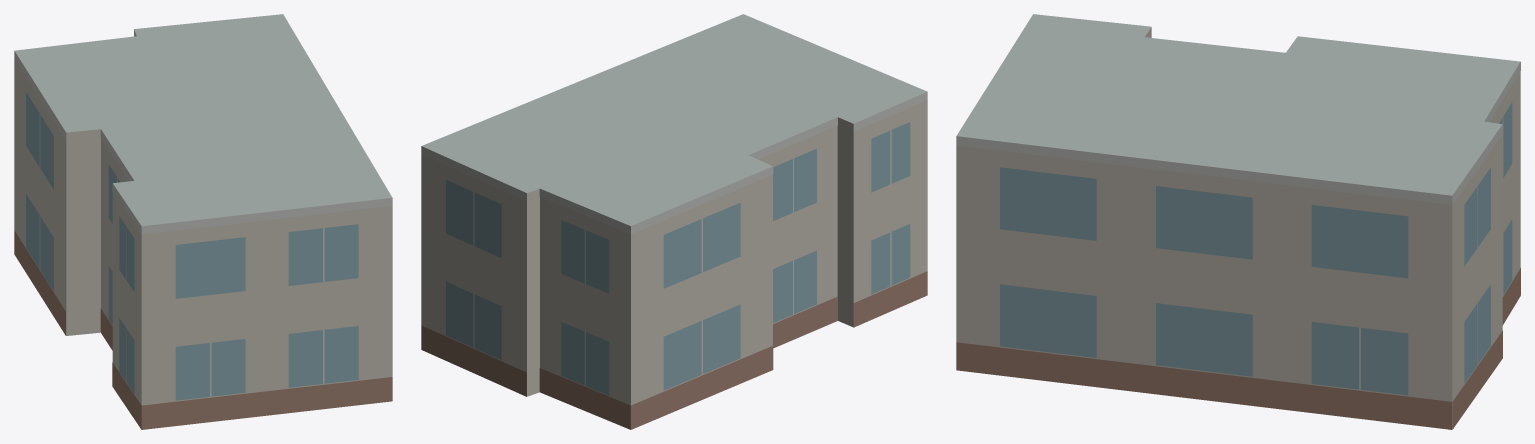
File: survey-upis-32876966.glb
3 renders of one model, left to right at view 1: azimuth 30°, elevation 25°; view 2: azimuth 150°, elevation 25°; view 3: azimuth 270°, elevation 25°, orthographic. The views are drawn at different scales.
Parts seen in each view (by area): view 1: survey-upis-32876966.tmp; view 2: survey-upis-32876966.tmp; view 3: survey-upis-32876966.tmp.
Part boxes in pixels (x1,y1,x2,y2): survey-upis-32876966.tmp: (14, 14, 392, 429); survey-upis-32876966.tmp: (421, 14, 927, 429); survey-upis-32876966.tmp: (956, 14, 1520, 429).
Size of the model in its own units: 10.16 by 6.1 by 13.34.
